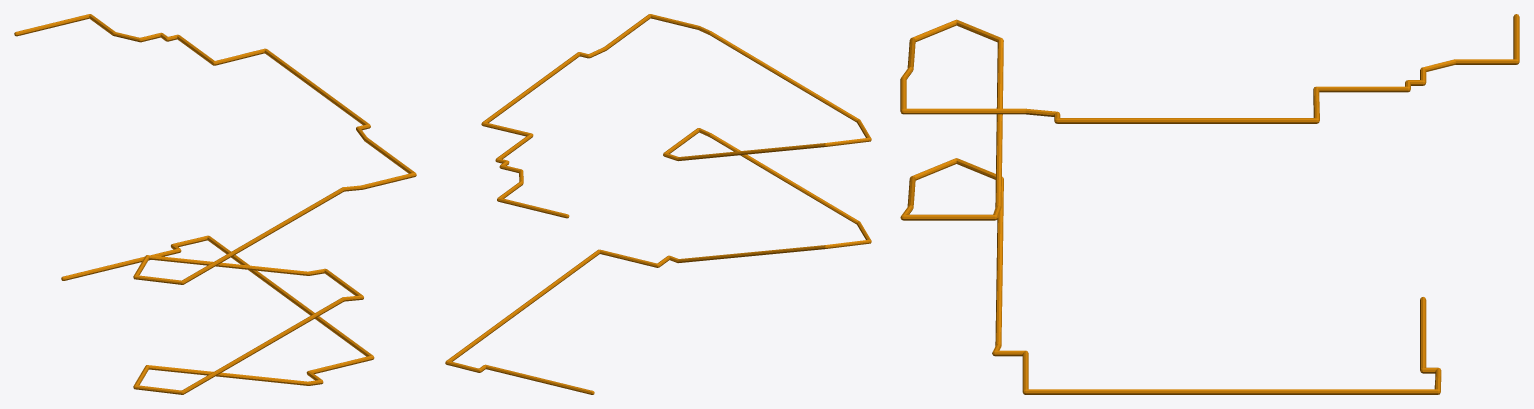
3 renders of one model, left to right at view 1: azimuth 30°, elevation 25°; view 2: azimuth 150°, elevation 25°; view 3: azimuth 270°, elevation 25°, orthographic. The views are drawn at different scales.
Size of the model in its own units: 1319 by 1020 by 2028.
